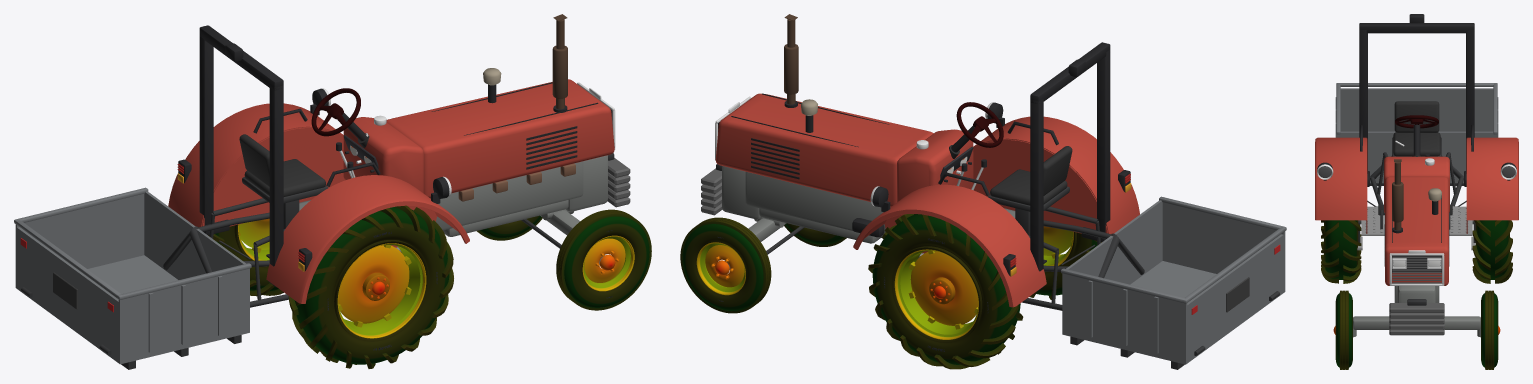
Rendered from tractor.glb.
3 renders of one model, left to right at view 1: azimuth 30°, elevation 25°; view 2: azimuth 150°, elevation 25°; view 3: azimuth 270°, elevation 25°, orthographic. The views are drawn at different scales.
Visible parts, largest first — view 1: Tractor_Body, WheelStock_RR, WheelStock_FR, WheelStock_RL, Steering_Wheel, WheelStock_FL, Numberplate_Rear; view 2: Tractor_Body, WheelStock_RL, WheelStock_FL, WheelStock_RR, Steering_Wheel, WheelStock_FR, Numberplate_Rear; view 3: Tractor_Body, WheelStock_RR, WheelStock_RL, WheelStock_FL, WheelStock_FR, Steering_Wheel, Lens, Lamp_Head.
Boxes of the visible parts, box(x1,y1,x2,y2) form: Tractor_Body: box(14, 14, 630, 369); WheelStock_RR: box(288, 205, 453, 368); WheelStock_FR: box(556, 209, 651, 310); WheelStock_RL: box(208, 218, 283, 296); Steering_Wheel: box(311, 88, 360, 136); WheelStock_FL: box(476, 215, 542, 240); Numberplate_Rear: box(53, 272, 77, 309); Tractor_Body: box(701, 14, 1286, 369); WheelStock_RL: box(868, 214, 1023, 369); WheelStock_FL: box(680, 217, 771, 313); WheelStock_RR: box(1029, 226, 1101, 299); Steering_Wheel: box(956, 102, 1003, 147); WheelStock_FR: box(784, 223, 846, 246); Numberplate_Rear: box(1226, 277, 1249, 312); Tractor_Body: box(1315, 14, 1518, 337); WheelStock_RR: box(1321, 220, 1361, 283); WheelStock_RL: box(1472, 220, 1512, 283); WheelStock_FL: box(1481, 290, 1500, 369); WheelStock_FR: box(1333, 290, 1352, 369); Steering_Wheel: box(1395, 115, 1438, 128); Lens: box(1318, 166, 1515, 267); Lamp_Head: box(1318, 170, 1515, 267).
Size of the model in its own units: 4.51 by 2.39 by 1.91.
